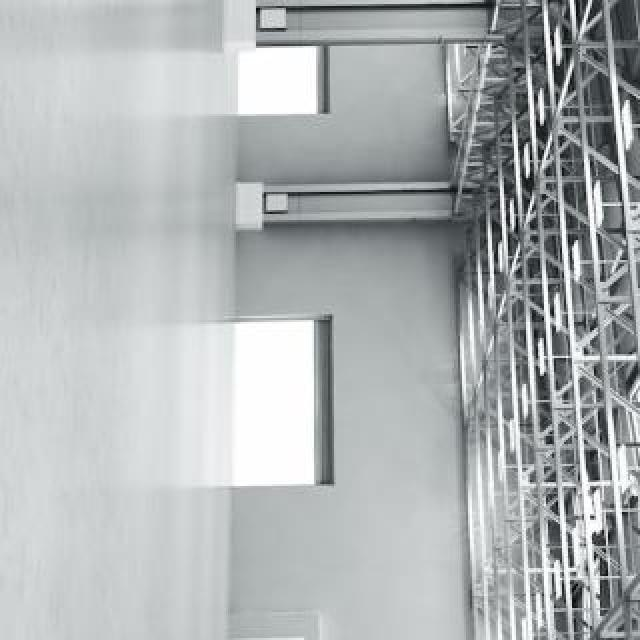fluorescent tube: (585, 184, 611, 244), (532, 335, 552, 387), (546, 289, 566, 340), (518, 382, 538, 429)
